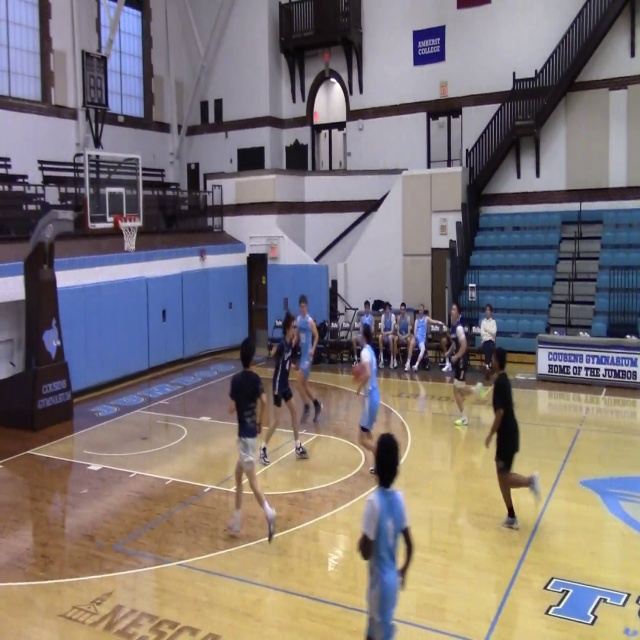Basketball: (351, 362, 369, 382), (474, 382, 490, 402), (351, 363, 363, 379)
